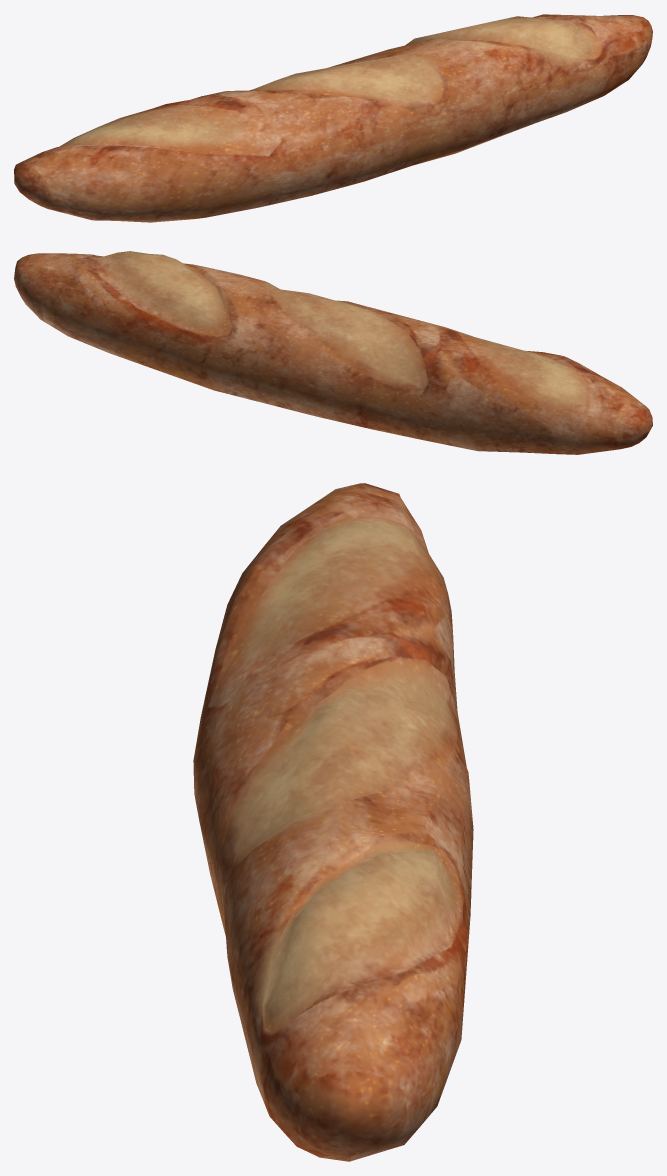
File: Bread_A.fbx
3 views of the same model, one above another, from view 1: azimuth 30°, elevation 25°; view 2: azimuth 150°, elevation 25°; view 3: azimuth 270°, elevation 25° (orthographic). The views are drawn at different scales.
Parts seen in each view (by area): view 1: Bread_A; view 2: Bread_A; view 3: Bread_A.
Part boxes in pixels (x1,y1,x2,y2): Bread_A: (14, 14, 652, 222); Bread_A: (14, 251, 652, 454); Bread_A: (193, 483, 473, 1161).
Size of the model in its own units: 0.8502 by 0.134 by 0.1629.
